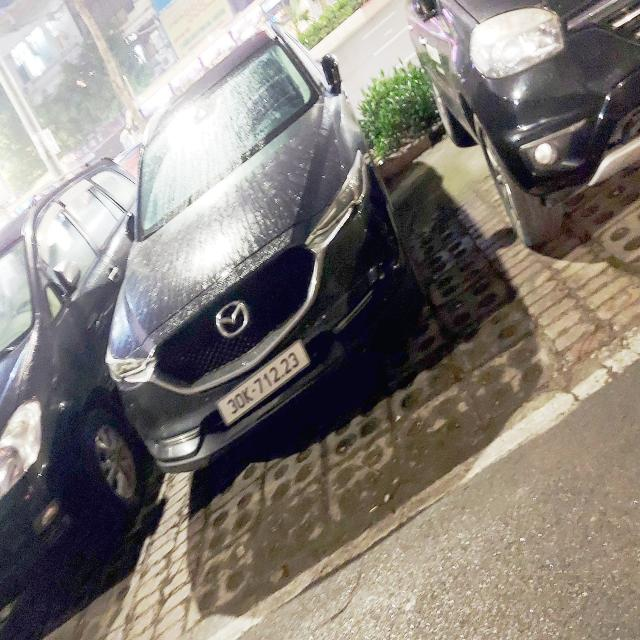license_plate: (215, 339, 313, 428)
